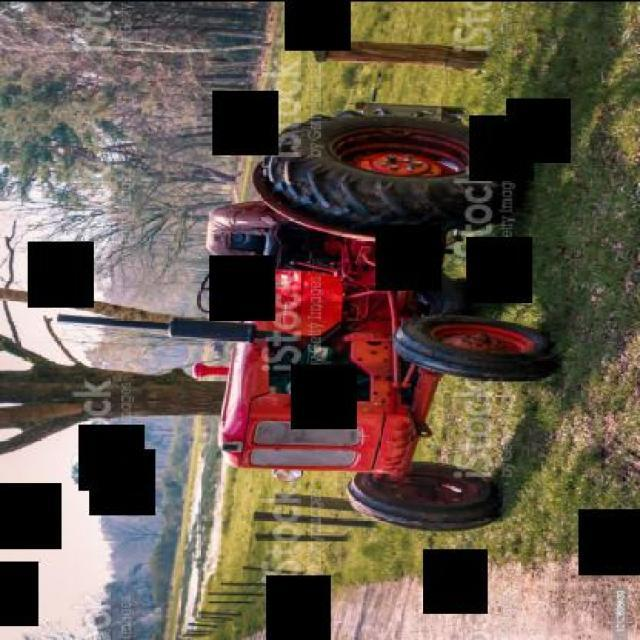Tratores - v5 YOLO V8L 2024-11-13: (51, 83, 638, 572)
